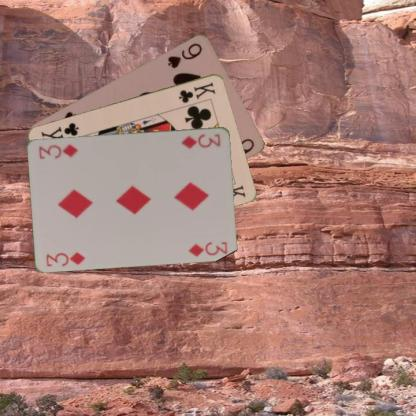3d: (43, 249, 87, 268), (179, 131, 222, 150)
9s: (165, 40, 203, 69)
Kc: (176, 79, 217, 104)
